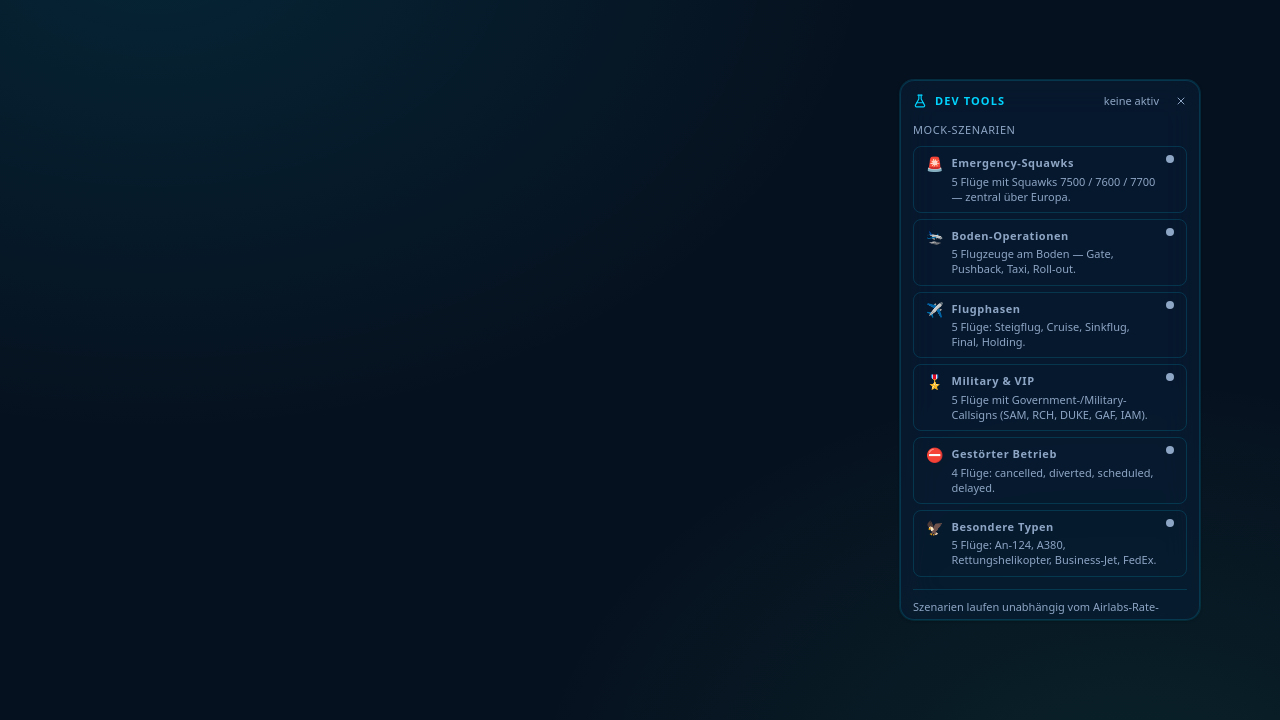
<MockEmergenciesPanel /> › purges only that scenario’s mocks when it is toggled back off
What coordinates should you click on to do the following:
click the text "Emergency-Squawks"
I would click on:
 (1013, 162)
Its box is [952, 155, 1074, 170].
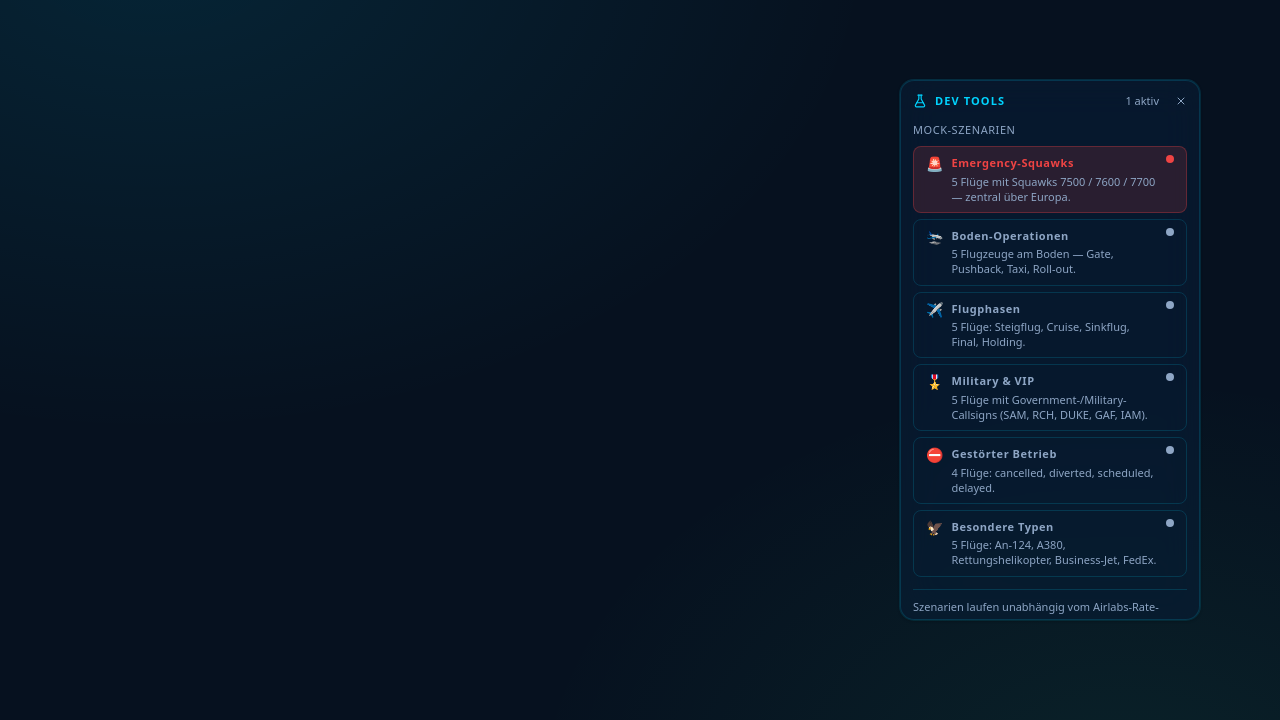
What coordinates should you click on to do the following:
click the text "Emergency-Squawks"
I would click on:
 (1013, 162)
Its box is [952, 155, 1074, 170].
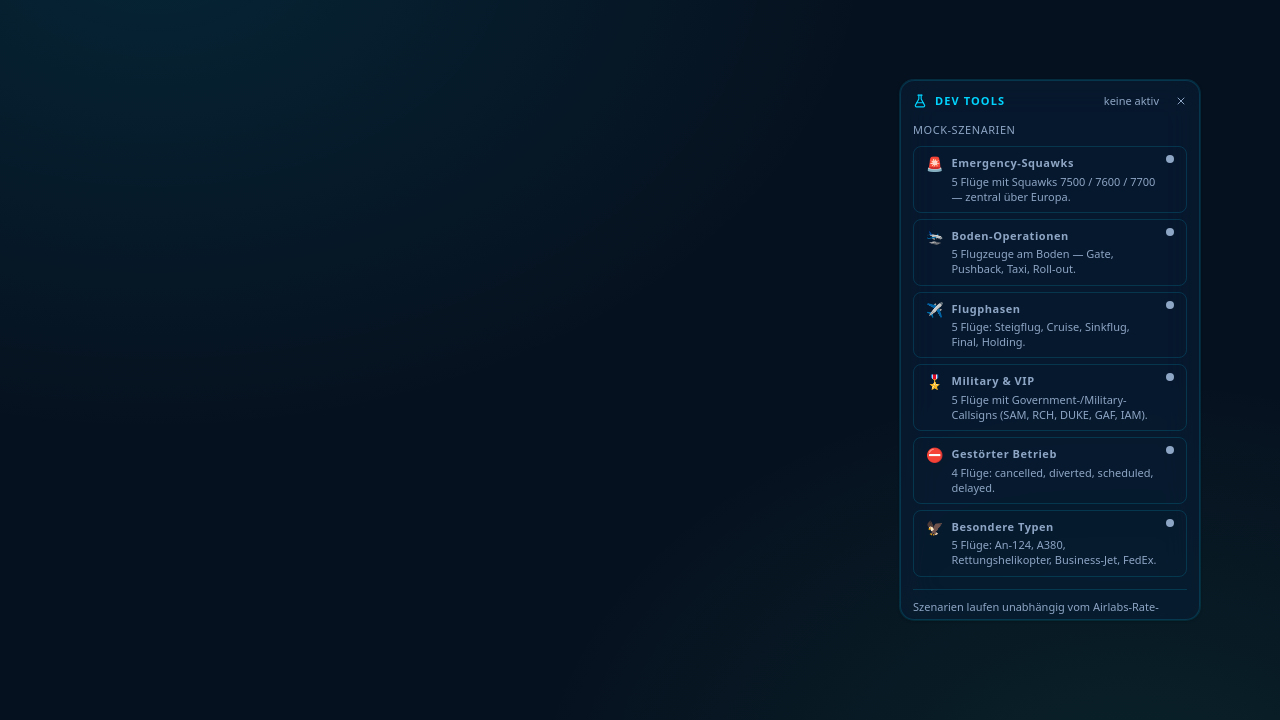
Check: the text "keine aktiv" is shown, box [1104, 93, 1159, 110]
